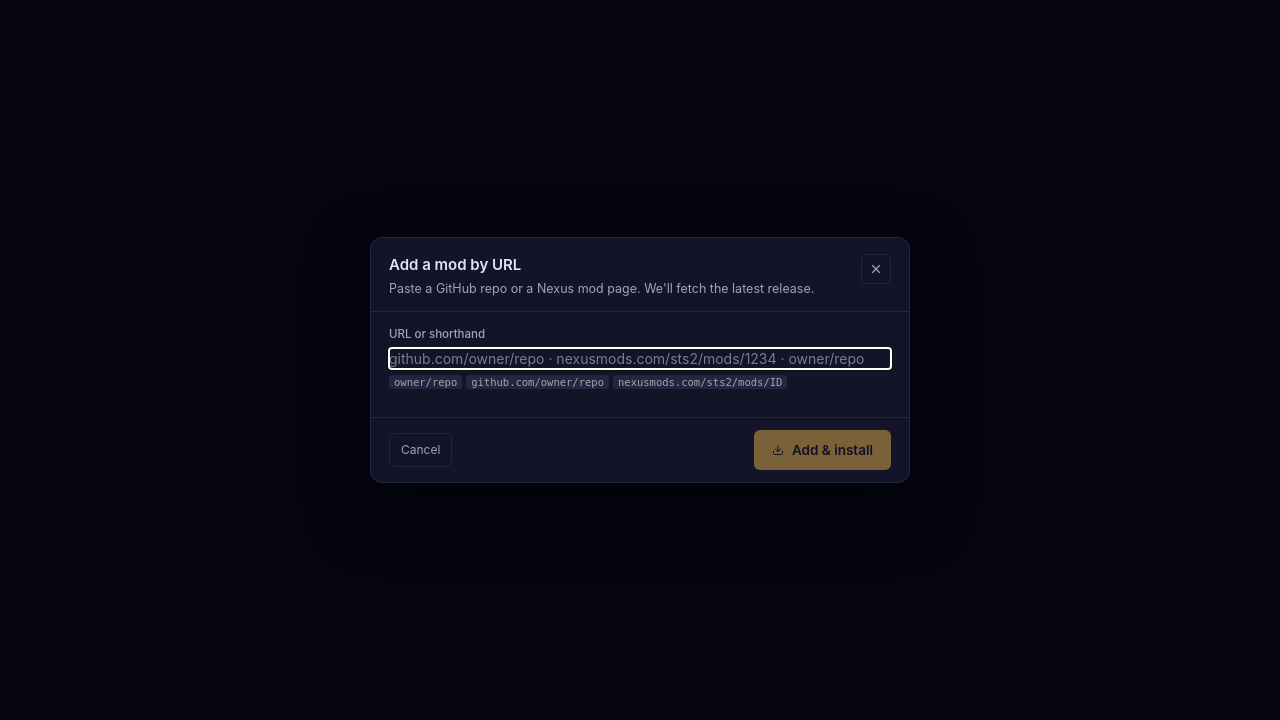
Test: <QuickAddModal> › detects https://github.com/foo/bar as foo/bar pill
This screenshot has width=1280, height=720.
Type "https://github.com/foo/bar" into the field with placeholder "github.com/owner/repo". click: (640, 359)
box: 389,348 -> 891,369
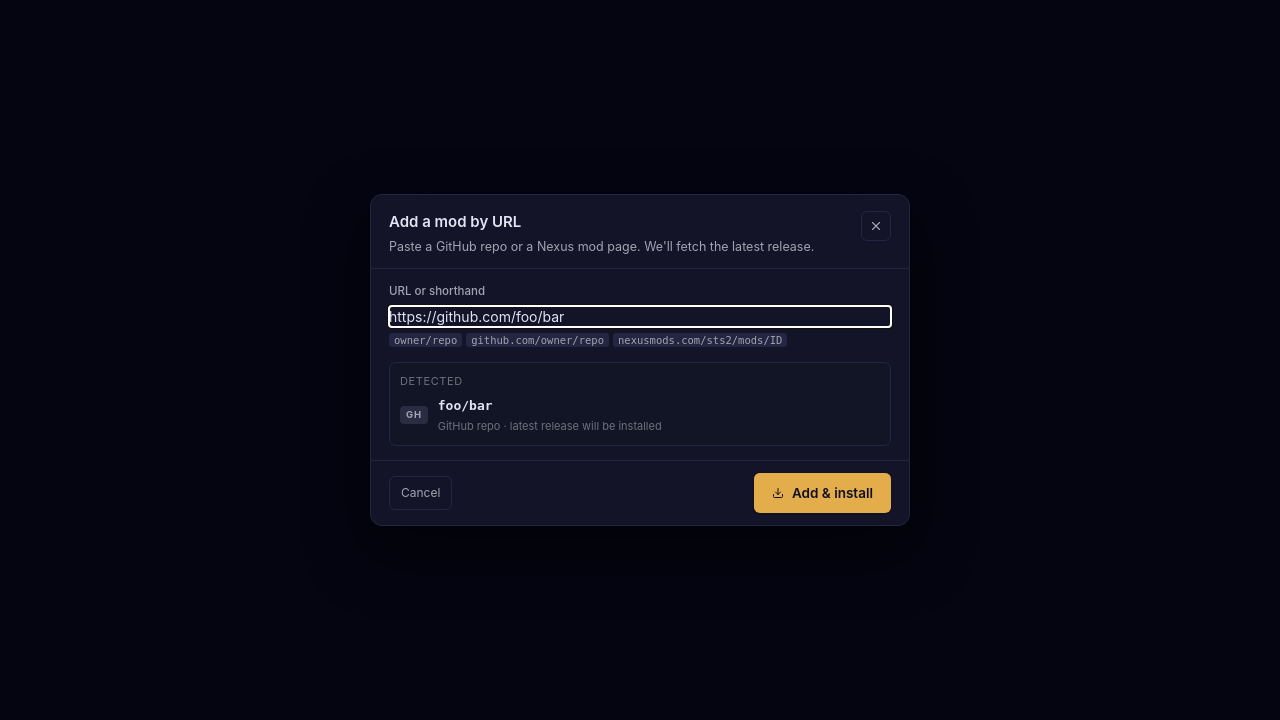
Check: the text "foo/bar" is shown, box 438,398 -> 493,413
Check: the text "GH" is shown, box 400,406 -> 428,424
